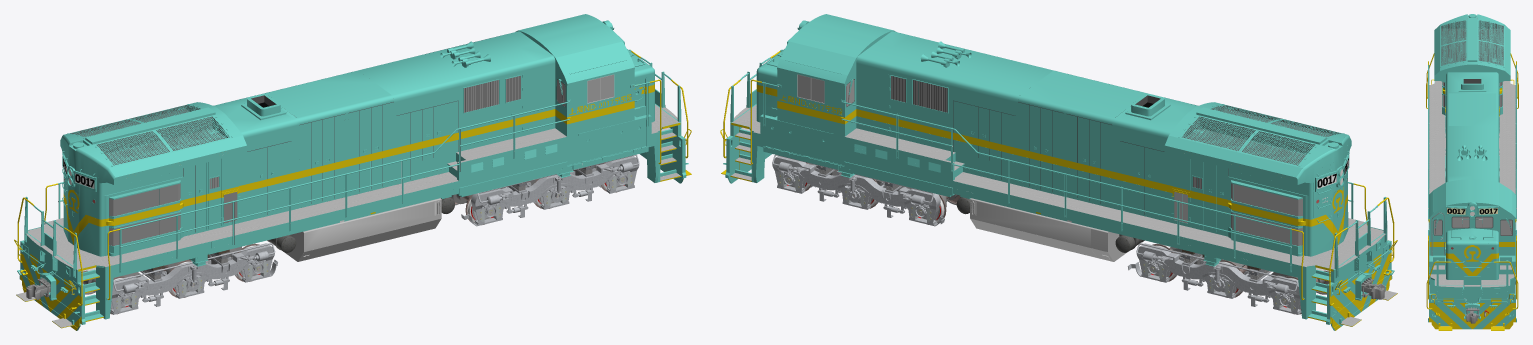
3 views of the same model, side by side, from view 1: azimuth 30°, elevation 25°; view 2: azimuth 150°, elevation 25°; view 3: azimuth 270°, elevation 25° (orthographic). The views are drawn at different scales.
Visible parts, largest first — view 1: Material2 (×10), Material3 (×10); view 2: Material2 (×13), Material3 (×9); view 3: Material2 (×7), Material3 (×10).
Part boxes in pixels (x1,y1,x2,y2): Material2 (×10): (17,14,688,330); Material3 (×10): (14,50,691,330); Material2 (×13): (721,14,1394,330); Material3 (×9): (720,50,1397,330); Material2 (×7): (1428,14,1516,329); Material3 (×10): (1426,20,1518,330).
Bounding box in the file's own units: 757 × 187 × 132.
Materials: 34 (9 with a texture image).
